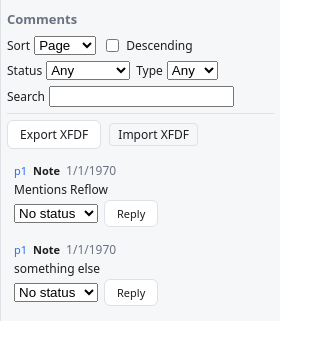
it: CommentPane: filters (D-A11) › filters by text, case-insensitively
This screenshot has width=320, height=338.
Expected: the text "Mentions Reflow" is shown, x1=14 y1=181 x2=108 y2=198
Type "reflow" into the field labelled "Search".
click(142, 96); type("reflow")  # box x1=49 y1=86 x2=234 y2=107
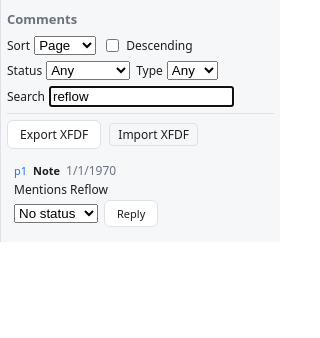
Expected: the text "Mentions Reflow" is shown, x1=14 y1=181 x2=108 y2=198
Expected: the text "something else" is gone
